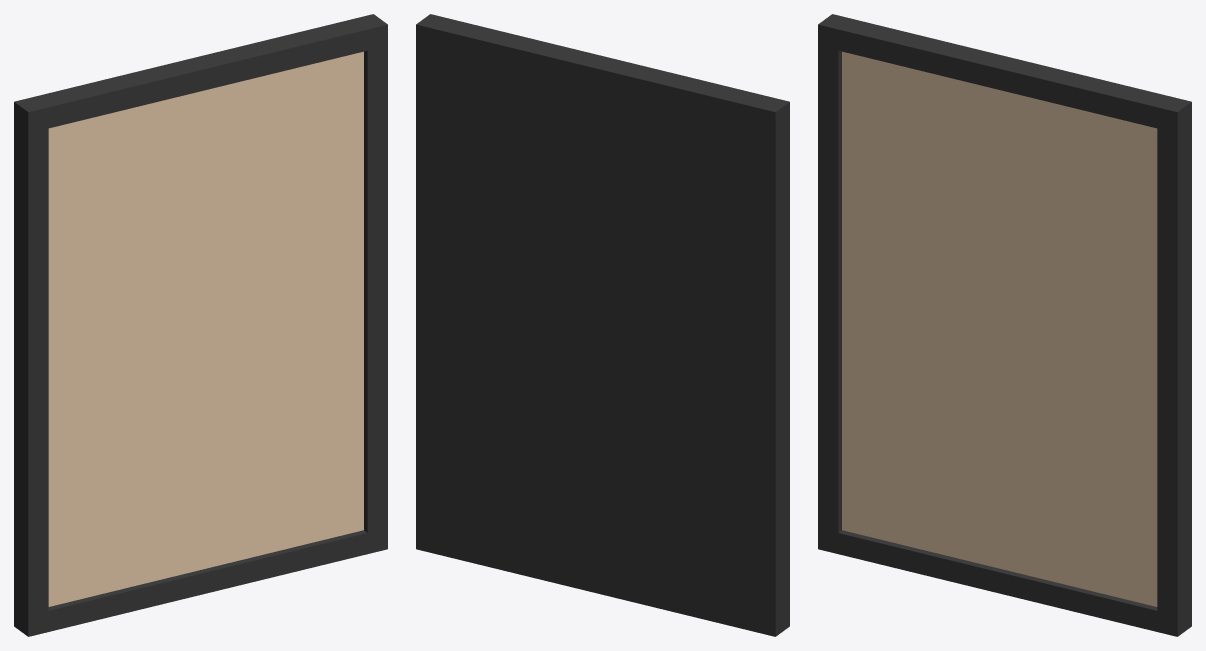
Rendered from Painting_05.fbx.
The picture shows the model from 3 angles, left to right: view 1: azimuth 30°, elevation 25°; view 2: azimuth 150°, elevation 25°; view 3: azimuth 330°, elevation 25°; orthographic projection.
Parts seen in each view (by area): view 1: Painting_05; view 2: Painting_05; view 3: Painting_05.
Boxes of the visible parts, <box> form: Painting_05: <box>14,14,387,636</box>; Painting_05: <box>416,14,789,636</box>; Painting_05: <box>818,14,1191,636</box>.
Bounding box in the file's own units: 45.37 × 63.27 × 3.14.
